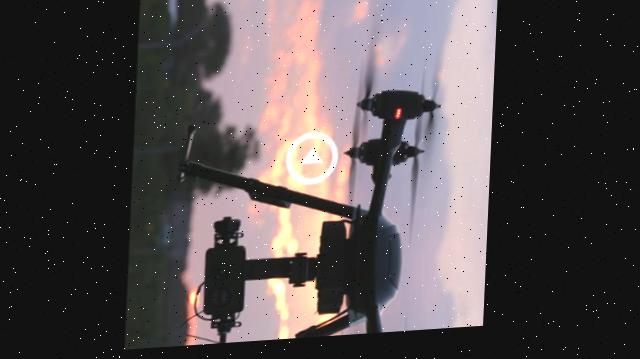drone: (150, 0, 463, 350)
